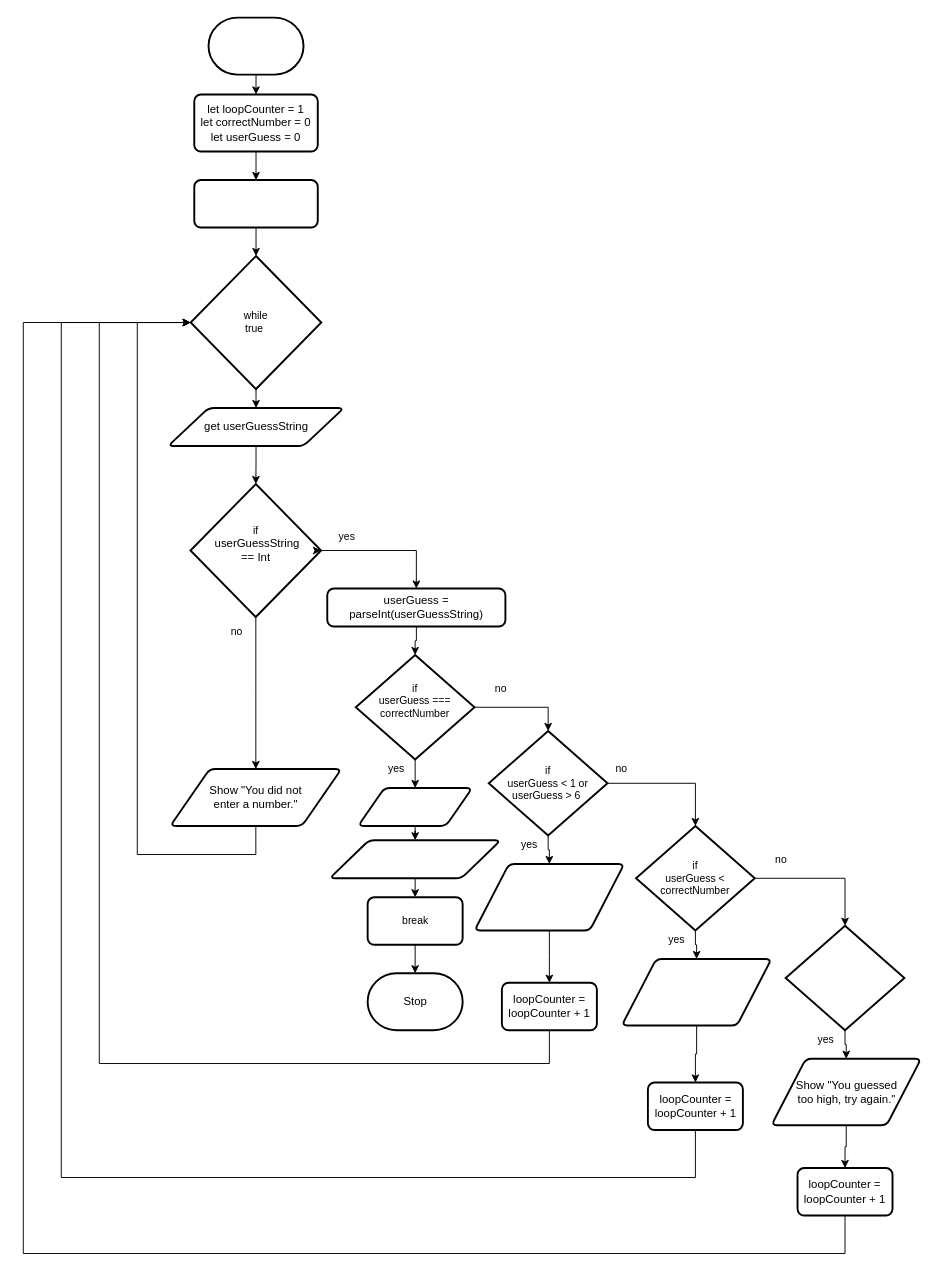
Some shapes in this 939 by 1278 pixel diagram are drawn without their labels. Here are the shapes that lost their labels. From the top down, the centre of each, then its label:
pixel 255 45: Start
pixel 255 203: generate random correctNumber
pixel 415 806: Show "you got it correct"
pixel 414 859: Show "it took you {loopCounter} guesses"
pixel 549 897: Show "you did not guess within range"
pixel 696 992: Show "You guessed too low, try again."
pixel 844 977: if userGuess > correctNumber
